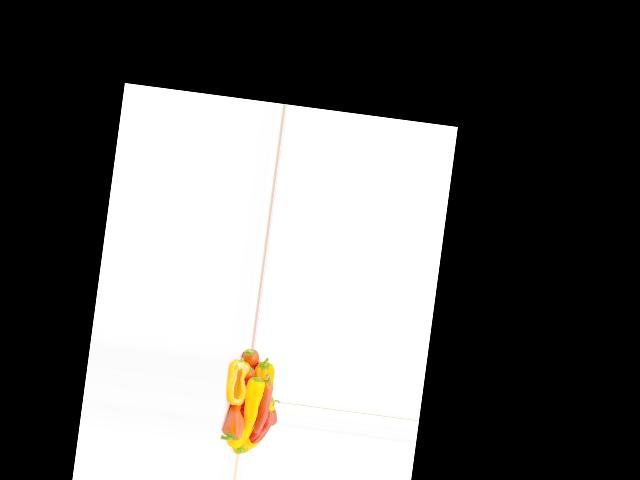bell_pepper: (239, 347, 263, 380)
